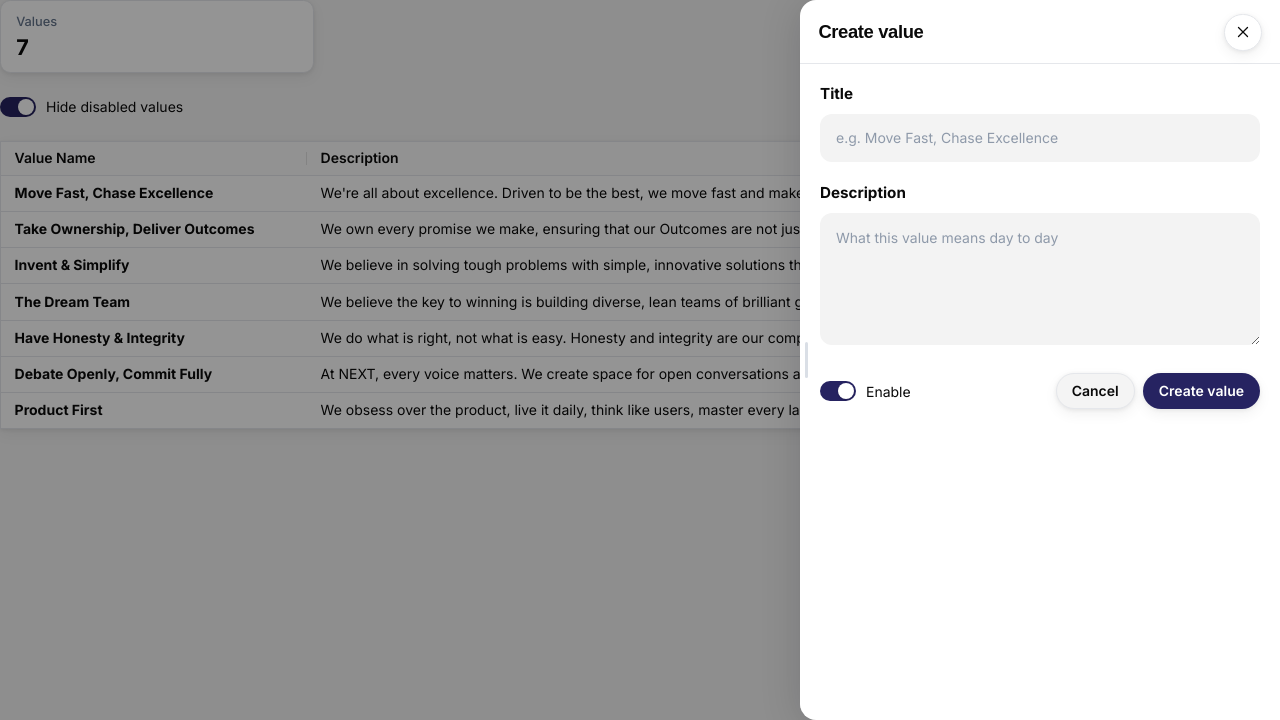
ValuesLibrary › creates a value in the right panel
Expected: the dialog "Create value" is shown, [800,0,1279,719]
In the field with placeholder "e.g. Move Fast, Chase Excellence": (1040, 138) [820,114,1260,162], type "Customer Obsession"
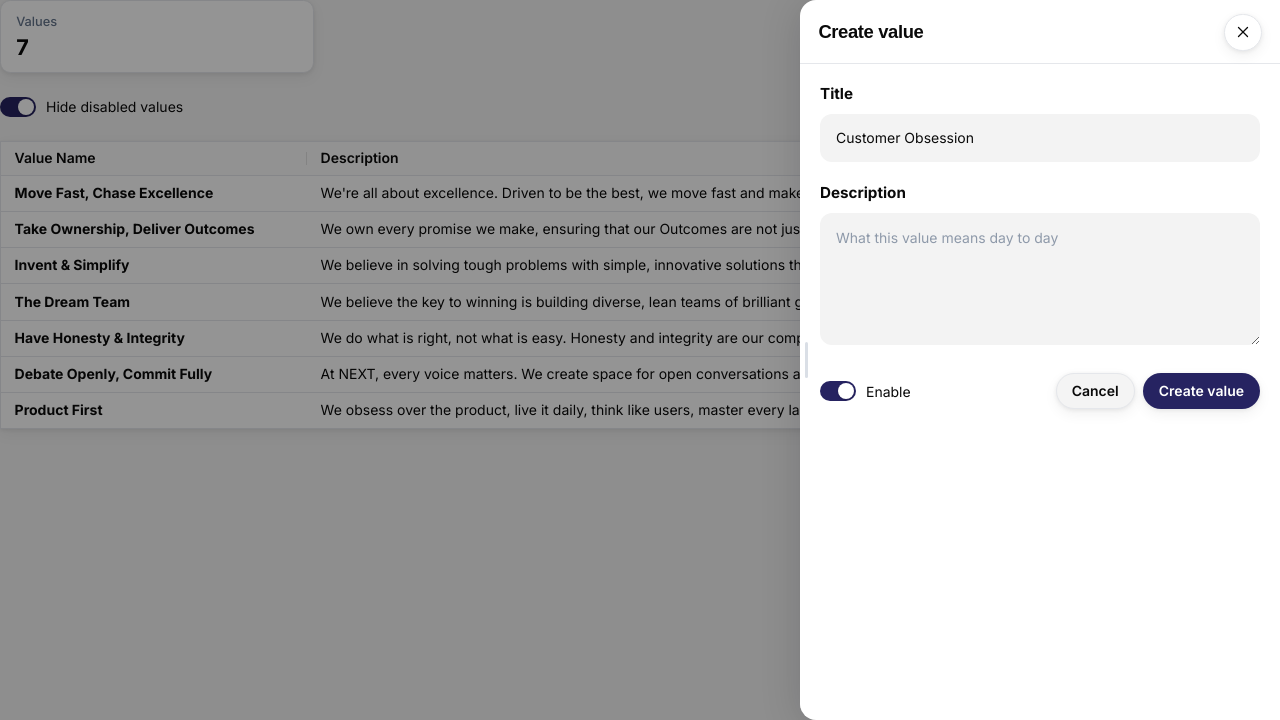
In the text box with placeholder "What this value means day to day": (1040, 279) [820,213,1260,345], type "Put the customer first."
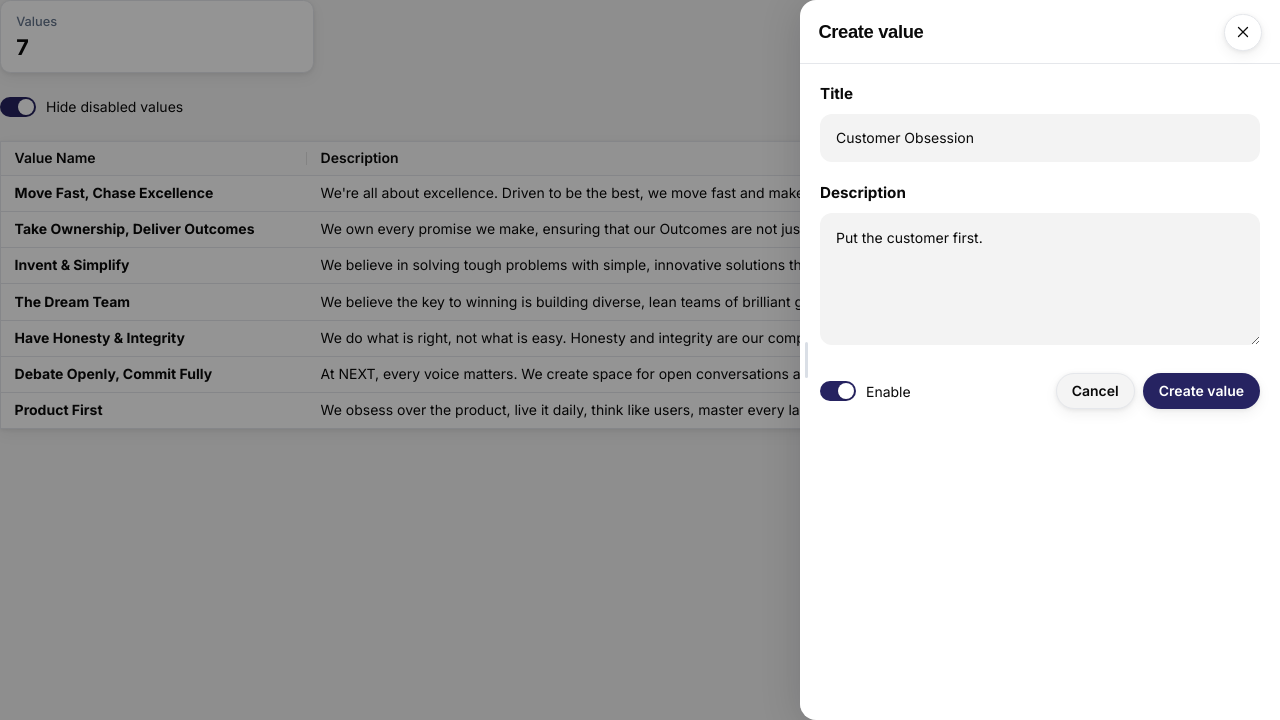
Click the button "Create value": (1201, 391) [1143,373,1260,409]
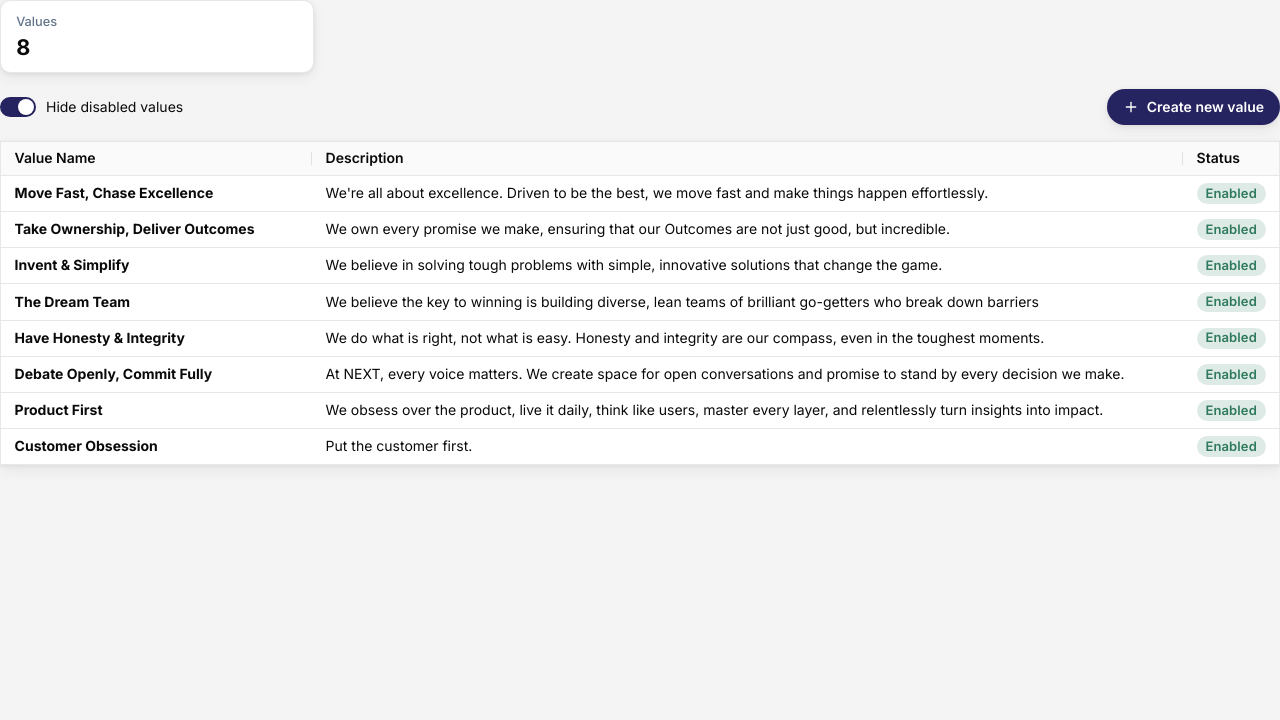
Now the dialog is gone
Now the text "Customer Obsession" is shown, box [15,437,158,456]
